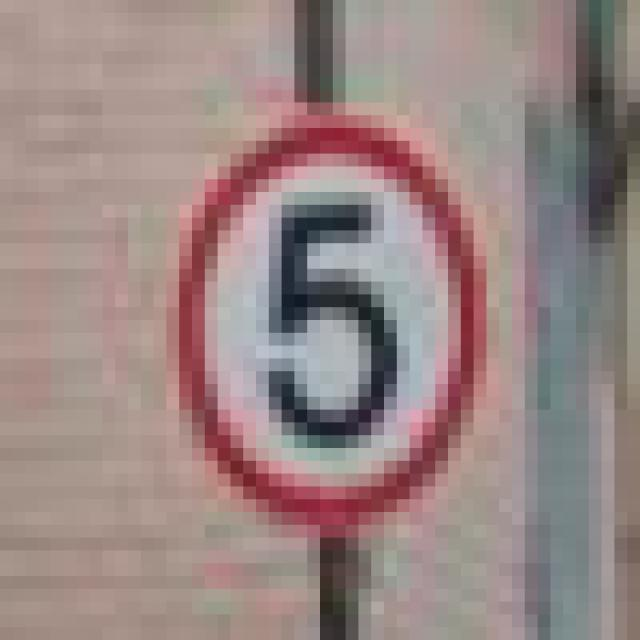speed_limit_20: (154, 90, 486, 538)
